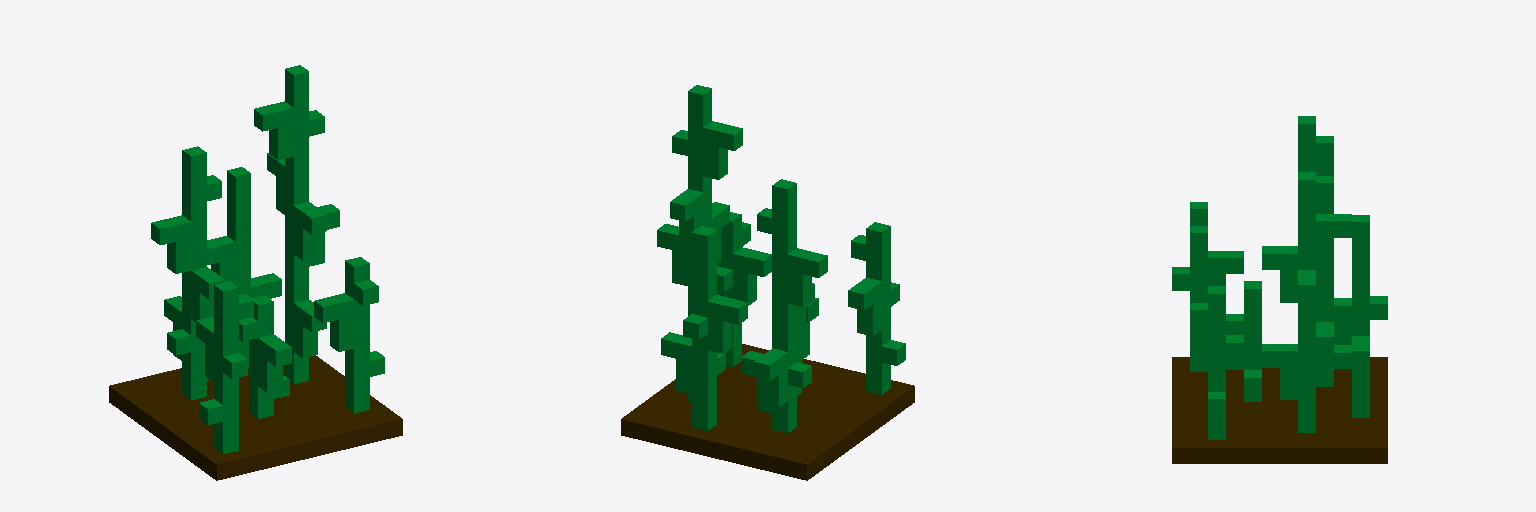
The picture shows the model from 3 angles: view 1: azimuth 30°, elevation 25°; view 2: azimuth 150°, elevation 25°; view 3: azimuth 270°, elevation 25°; orthographic projection.
Visible parts, largest first — view 1: Matrix_7; view 2: Matrix_7; view 3: Matrix_7.
Boxes of the visible parts, x1,y1,x2,y2 form: Matrix_7: [109, 65, 402, 480]; Matrix_7: [621, 85, 914, 480]; Matrix_7: [1172, 116, 1387, 463].
Size of the model in its own units: 12 by 20 by 12.
Materials: 1 (1 with a texture image).